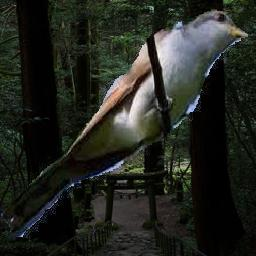Cuckoo: (2, 8, 249, 239)
